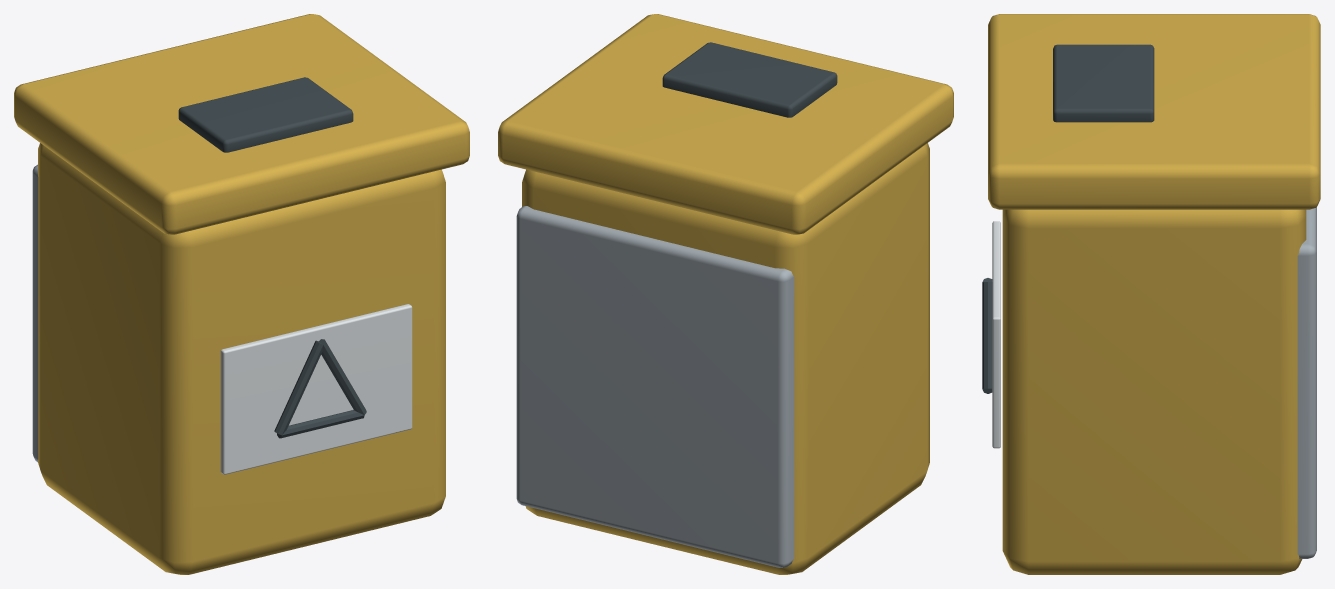
The model's file is sharps_container.fbx.
The picture shows the model from 3 angles, left to right: view 1: azimuth 30°, elevation 25°; view 2: azimuth 150°, elevation 25°; view 3: azimuth 270°, elevation 25°; orthographic projection. The views are drawn at different scales.
Parts seen in each view (by area): view 1: EQ_sharps_container_M_Amber, EQ_sharps_container_M_PlasticWhite, EQ_sharps_container_M_PlasticGrey, EQ_sharps_container_M_SteelBrushed; view 2: EQ_sharps_container_M_Amber, EQ_sharps_container_M_SteelBrushed, EQ_sharps_container_M_PlasticGrey; view 3: EQ_sharps_container_M_Amber, EQ_sharps_container_M_PlasticGrey, EQ_sharps_container_M_SteelBrushed, EQ_sharps_container_M_PlasticWhite.
Part boxes in pixels (left/top/right/bottom): EQ_sharps_container_M_Amber: left=14, top=14, right=469, bottom=574; EQ_sharps_container_M_PlasticWhite: left=220, top=304, right=412, bottom=474; EQ_sharps_container_M_PlasticGrey: left=178, top=77, right=366, bottom=438; EQ_sharps_container_M_SteelBrushed: left=32, top=164, right=38, bottom=462; EQ_sharps_container_M_Amber: left=498, top=14, right=953, bottom=574; EQ_sharps_container_M_SteelBrushed: left=516, top=206, right=794, bottom=567; EQ_sharps_container_M_PlasticGrey: left=662, top=42, right=837, bottom=117; EQ_sharps_container_M_Amber: left=988, top=14, right=1320, bottom=574; EQ_sharps_container_M_PlasticGrey: left=982, top=44, right=1154, bottom=393; EQ_sharps_container_M_SteelBrushed: left=1297, top=207, right=1316, bottom=558; EQ_sharps_container_M_PlasticWhite: left=992, top=221, right=1000, bottom=448.
Bounding box in the file's own units: 0.26 × 0.332 × 0.234.
